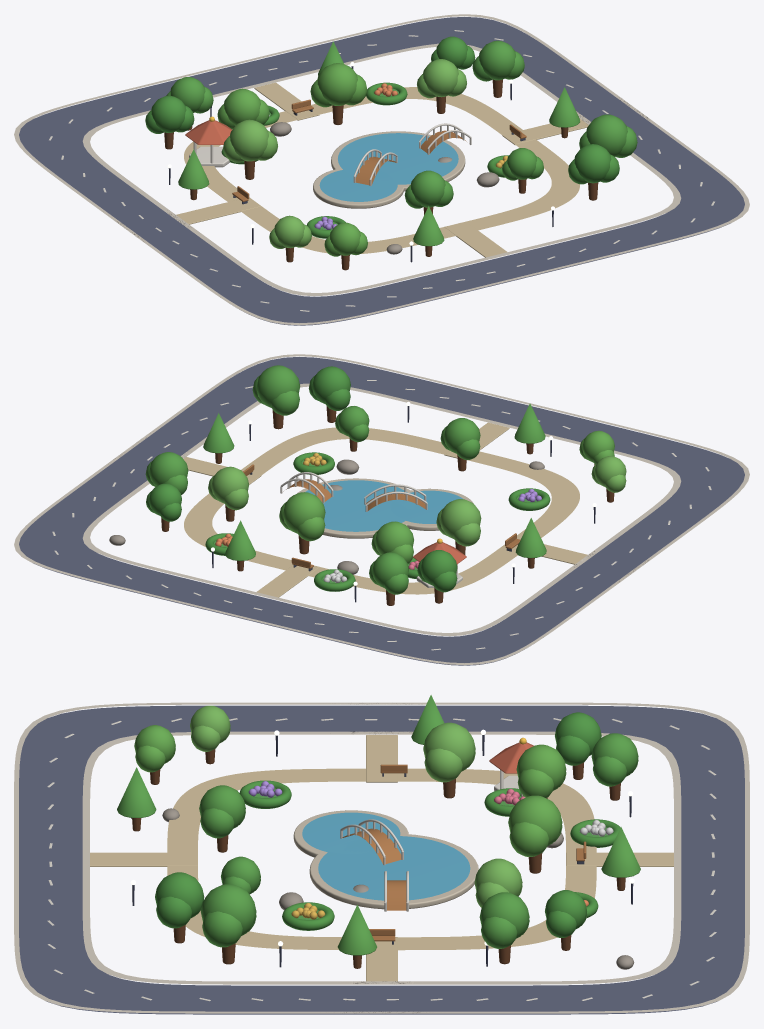
The model's file is board.glb.
3 views of the same model, one above another, from view 1: azimuth 30°, elevation 25°; view 2: azimuth 150°, elevation 25°; view 3: azimuth 270°, elevation 25° (orthographic). The views are drawn at different scales.
Visible parts, largest first — view 1: road; view 2: road; view 3: road.
Boxes of the visible parts, x1,y1,x2,y2 form: road: [14, 14, 749, 325]; road: [14, 354, 749, 665]; road: [14, 695, 749, 1014].
Size of the model in its own units: 6 by 0.734 by 6.
